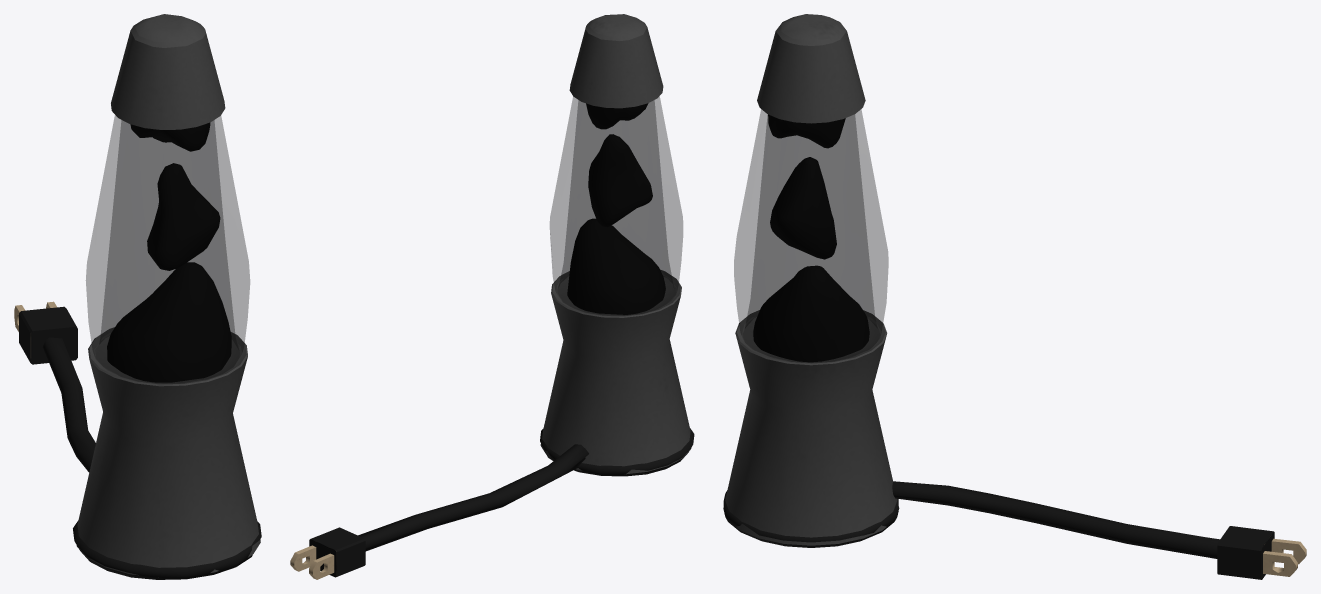
File: hw_pop_lava.glb
The picture shows the model from 3 angles, left to right: view 1: azimuth 30°, elevation 25°; view 2: azimuth 150°, elevation 25°; view 3: azimuth 270°, elevation 25°; orthographic projection. The views are drawn at different scales.
Parts seen in each view (by area): view 1: defaultMaterial, defaultMaterial9, defaultMaterial6, defaultMaterial3; view 2: defaultMaterial, defaultMaterial9, defaultMaterial6, defaultMaterial3; view 3: defaultMaterial, defaultMaterial9, defaultMaterial6, defaultMaterial3.
Boxes of the visible parts, left/top/right/bottom form: defaultMaterial: left=76, top=14, right=260, bottom=577; defaultMaterial9: left=86, top=115, right=249, bottom=383; defaultMaterial6: left=107, top=122, right=231, bottom=382; defaultMaterial3: left=14, top=301, right=261, bottom=579; defaultMaterial: left=540, top=14, right=691, bottom=474; defaultMaterial9: left=550, top=96, right=682, bottom=315; defaultMaterial6: left=567, top=103, right=665, bottom=314; defaultMaterial3: left=290, top=428, right=694, bottom=579; defaultMaterial: left=723, top=14, right=899, bottom=545; defaultMaterial9: left=734, top=109, right=888, bottom=362; defaultMaterial6: left=753, top=114, right=869, bottom=362; defaultMaterial3: left=723, top=481, right=1306, bottom=579.
Size of the model in its own units: 0.836 by 1.87 by 1.99.
4 materials, 2 textured.
